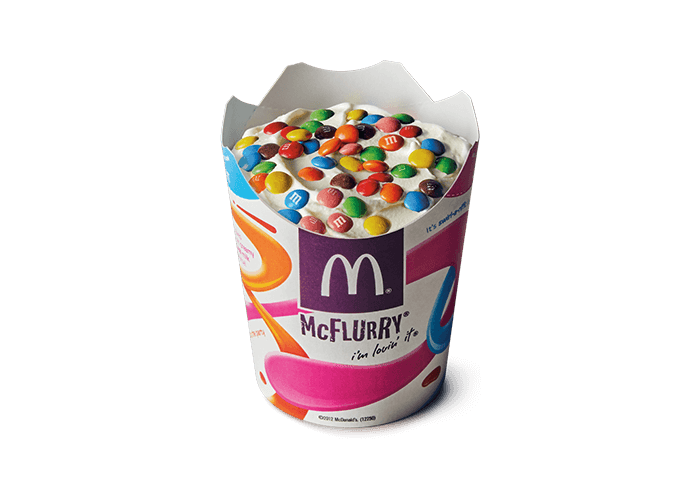mcdonalds: (315, 251, 387, 302)
